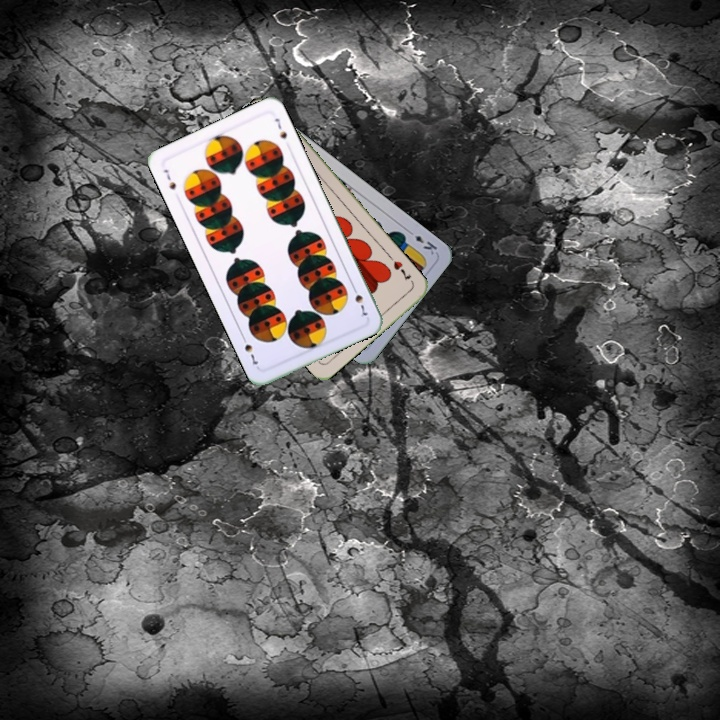EK: (403, 226, 440, 257)
H7: (389, 257, 414, 283)
S7: (348, 281, 370, 319), (159, 165, 179, 192)
